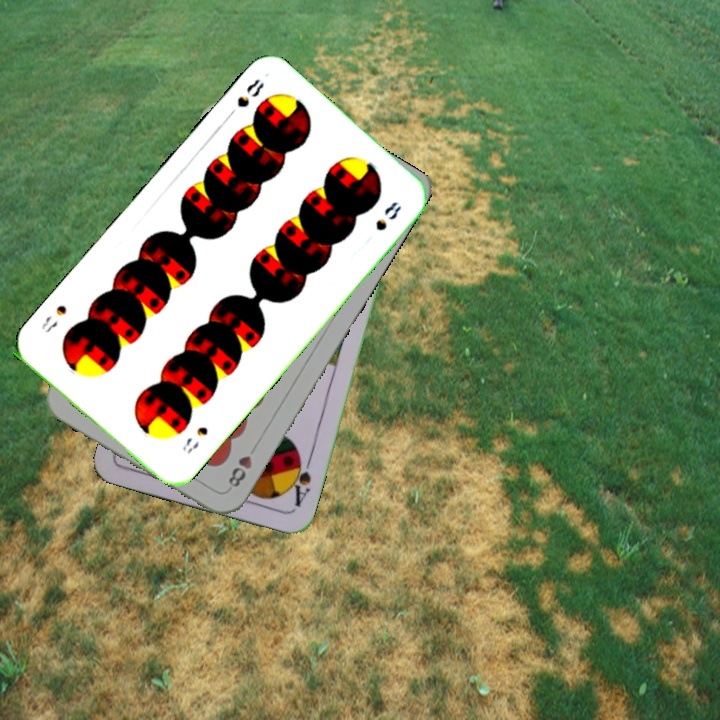H8: (224, 440, 260, 493)
S8: (222, 75, 267, 122), (178, 422, 211, 456)
SA: (284, 451, 314, 509)
